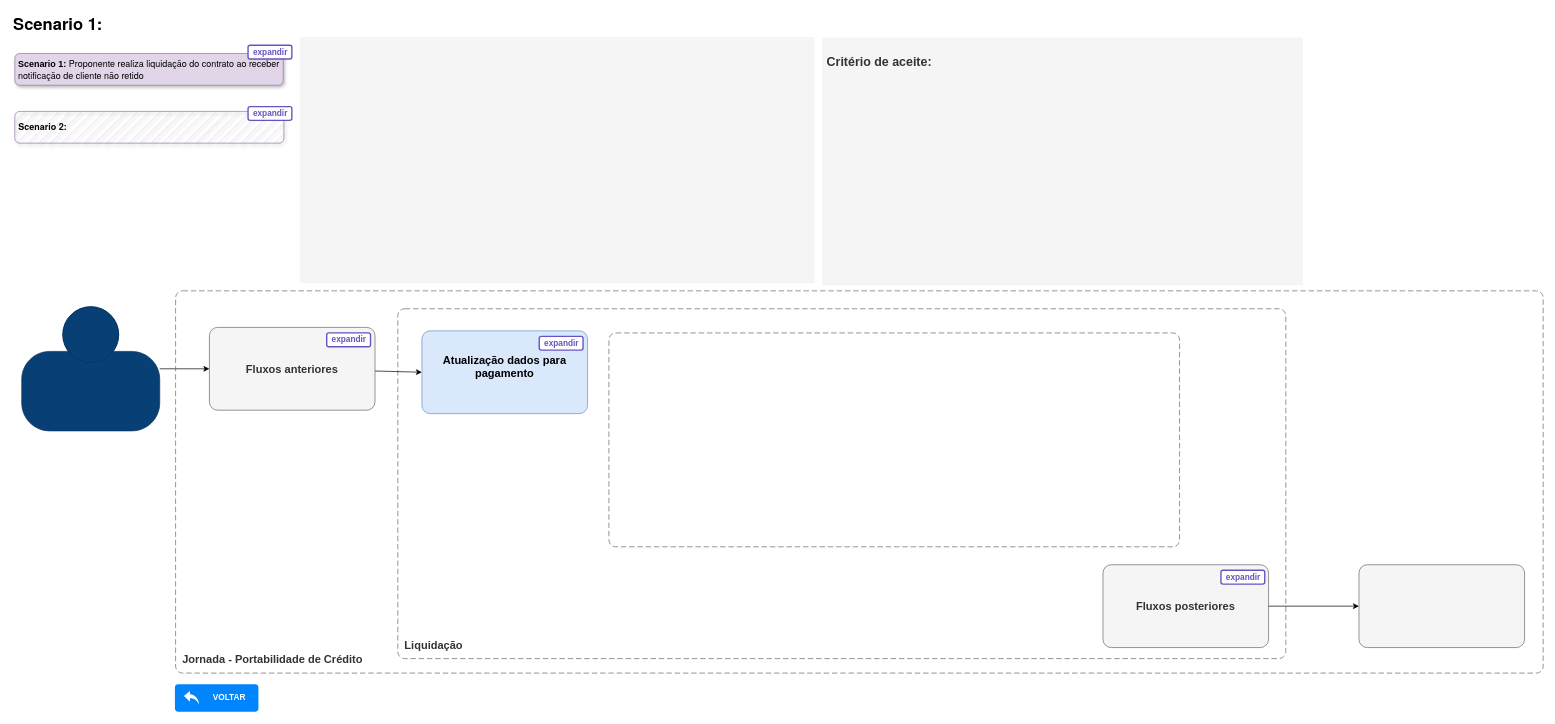
This 1555x724 diagram has some shape labels left out. The centre of each missing label's shape, as x and y in pixels:
Cliente [Person]: pixel 90 368
Fim da jornada: pixel 1441 606
Liquidação do contrato: pixel 894 439
